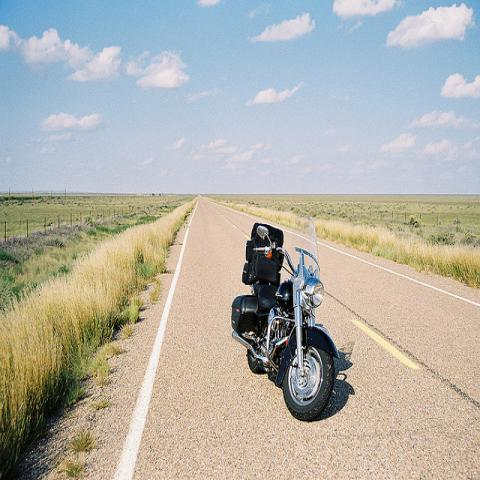motorcycle: (232, 214, 342, 424)
